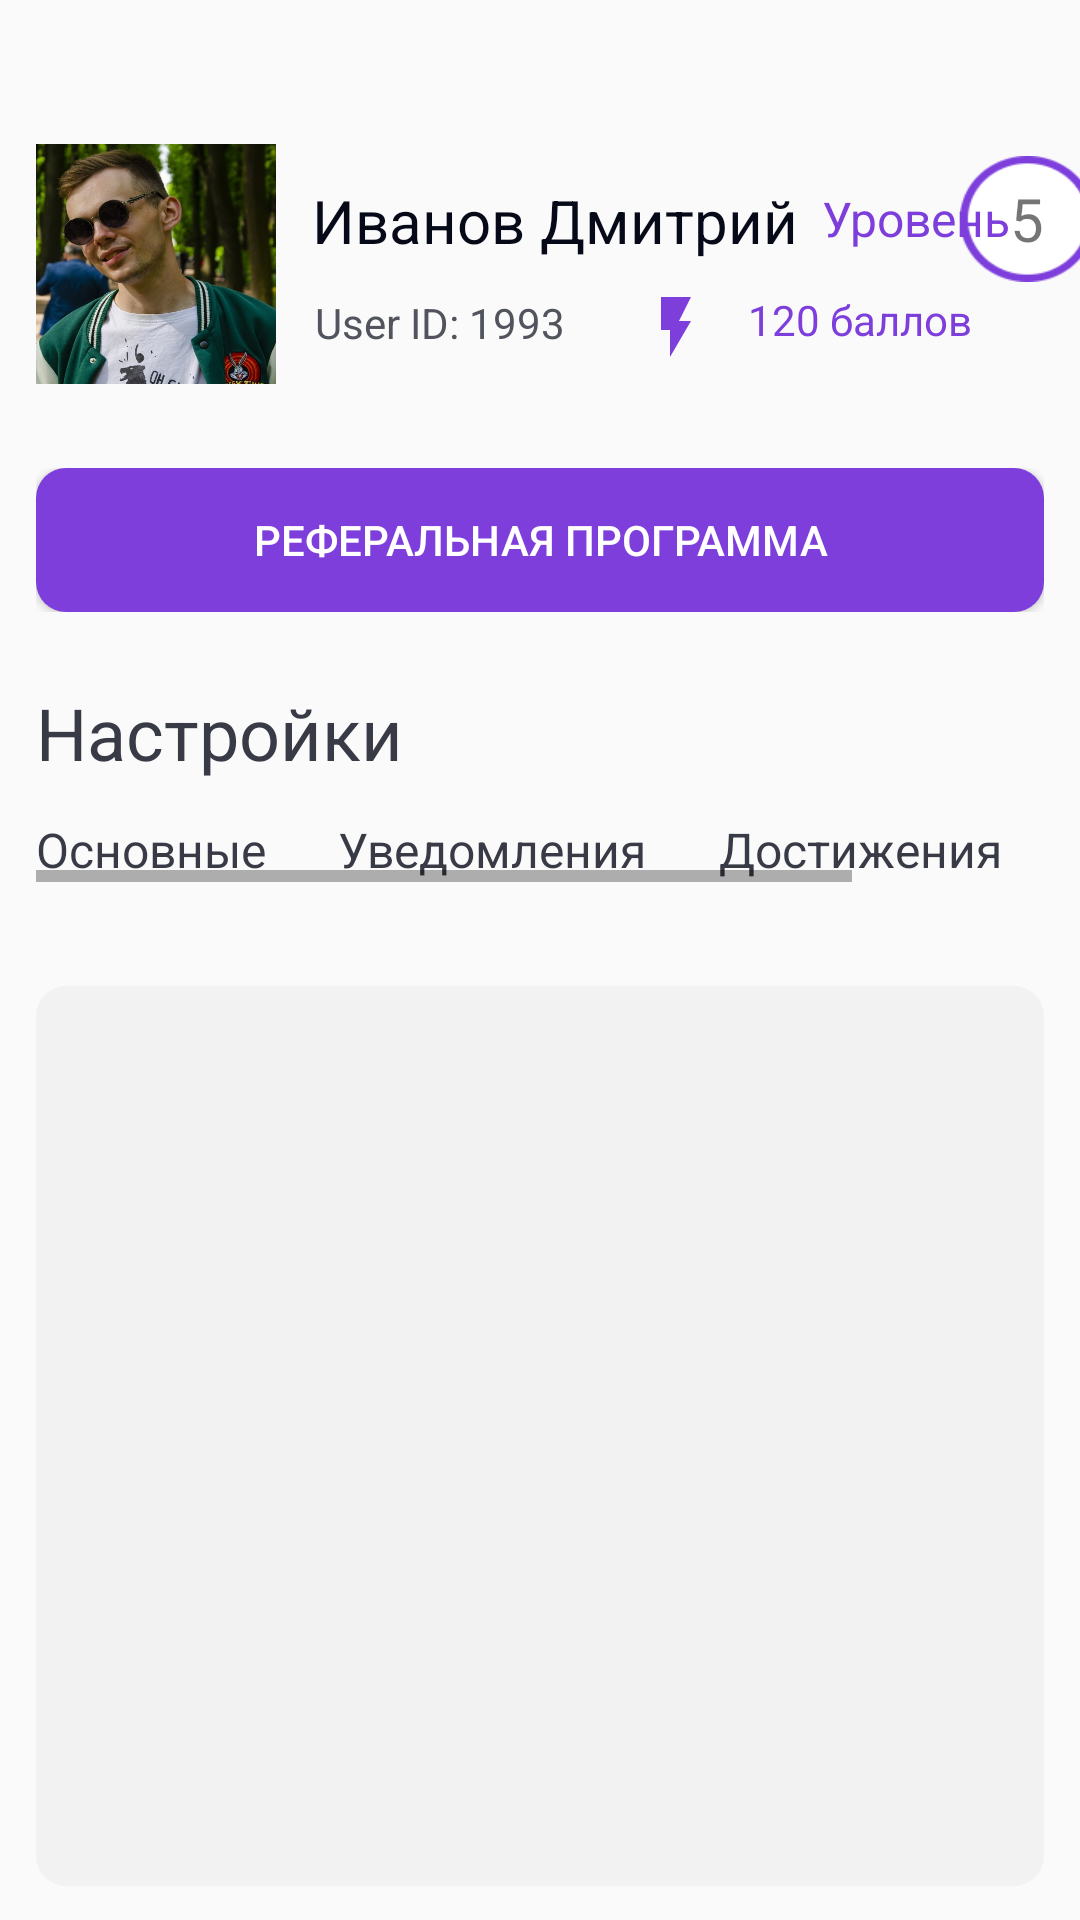

Screen size 1080w x 1920h. Icon name, then its box in pixels as region(x1, y1, x2, y2):
flash on: region(661, 297, 691, 357)
